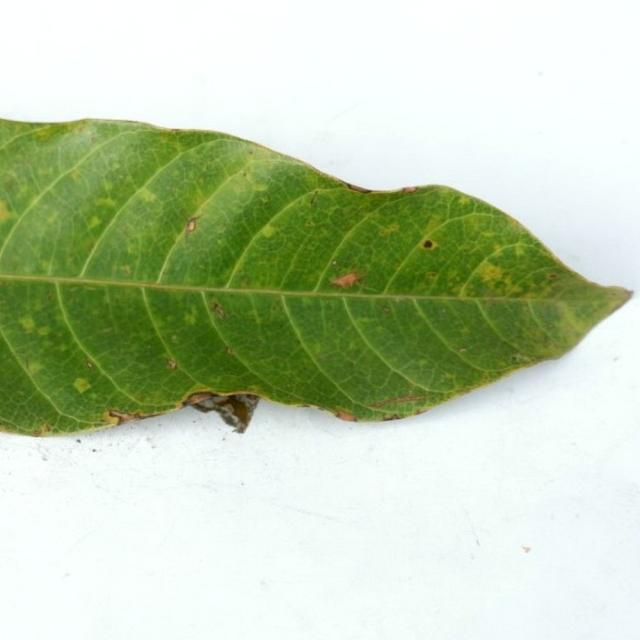Mango: (0, 119, 629, 435)
Powdery_Mildew: (60, 360, 101, 404), (464, 253, 511, 282), (258, 221, 291, 246), (329, 271, 366, 289), (184, 214, 202, 241), (135, 187, 159, 204), (378, 221, 401, 238), (0, 199, 14, 223), (34, 125, 56, 140), (96, 196, 118, 211), (259, 224, 277, 238), (212, 302, 226, 319), (19, 317, 35, 331), (87, 215, 102, 229), (512, 353, 533, 363), (26, 362, 42, 375), (184, 310, 197, 326), (37, 424, 52, 435), (37, 326, 51, 337), (165, 358, 177, 370), (186, 220, 196, 232), (422, 240, 434, 249), (378, 305, 391, 313), (121, 265, 131, 275), (426, 272, 437, 280), (547, 273, 558, 280), (225, 346, 233, 355), (171, 335, 178, 342), (90, 136, 97, 143), (86, 361, 93, 368), (242, 171, 247, 178)
